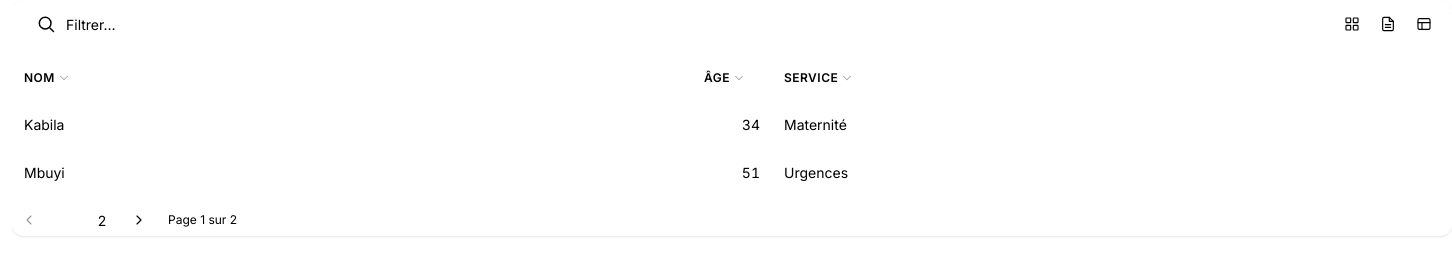
it: DataTable › pagine côté client (pageSize 2)
Expected: the cell "Kabila" is shown, [24,116,64,132]
Expected: the cell "Ilunga" is not shown
Click the button named "Page suivante".
click(139, 220)  # box [122,204,156,236]
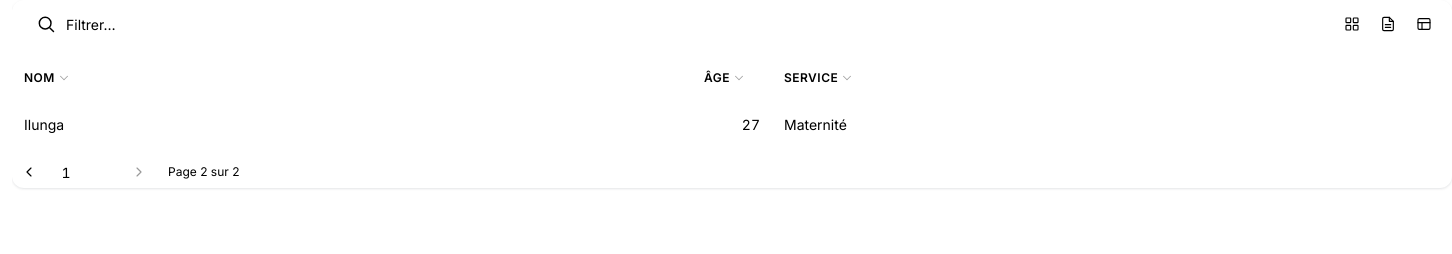
Expected: the cell "Ilunga" is shown, [24,116,64,132]
